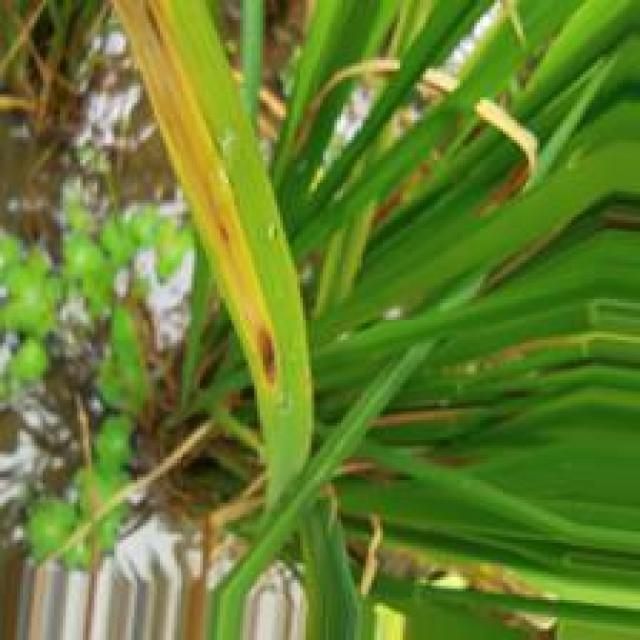Narrow_Brown_Leaf_Spot: (107, 0, 290, 403)
